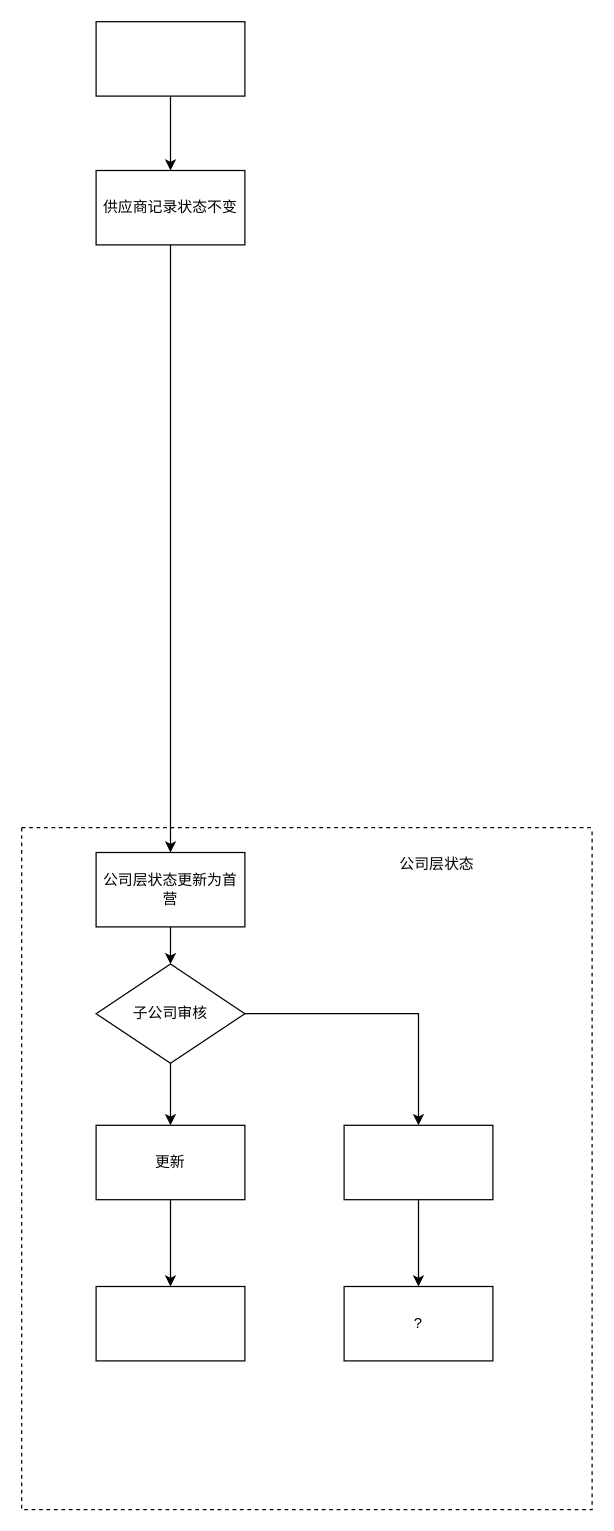
Some shapes in this 614 by 1531 pixel diagram are drawn without their labels. The centre of each missing label's shape, as x and y in pixels:
不更新: (418,1162)
公司层状态更新为有效状态，并刷一下供应商的mtime，触发推送: (170,1323)
某个子公司引入供应商，填写采购信息: (170,58)
